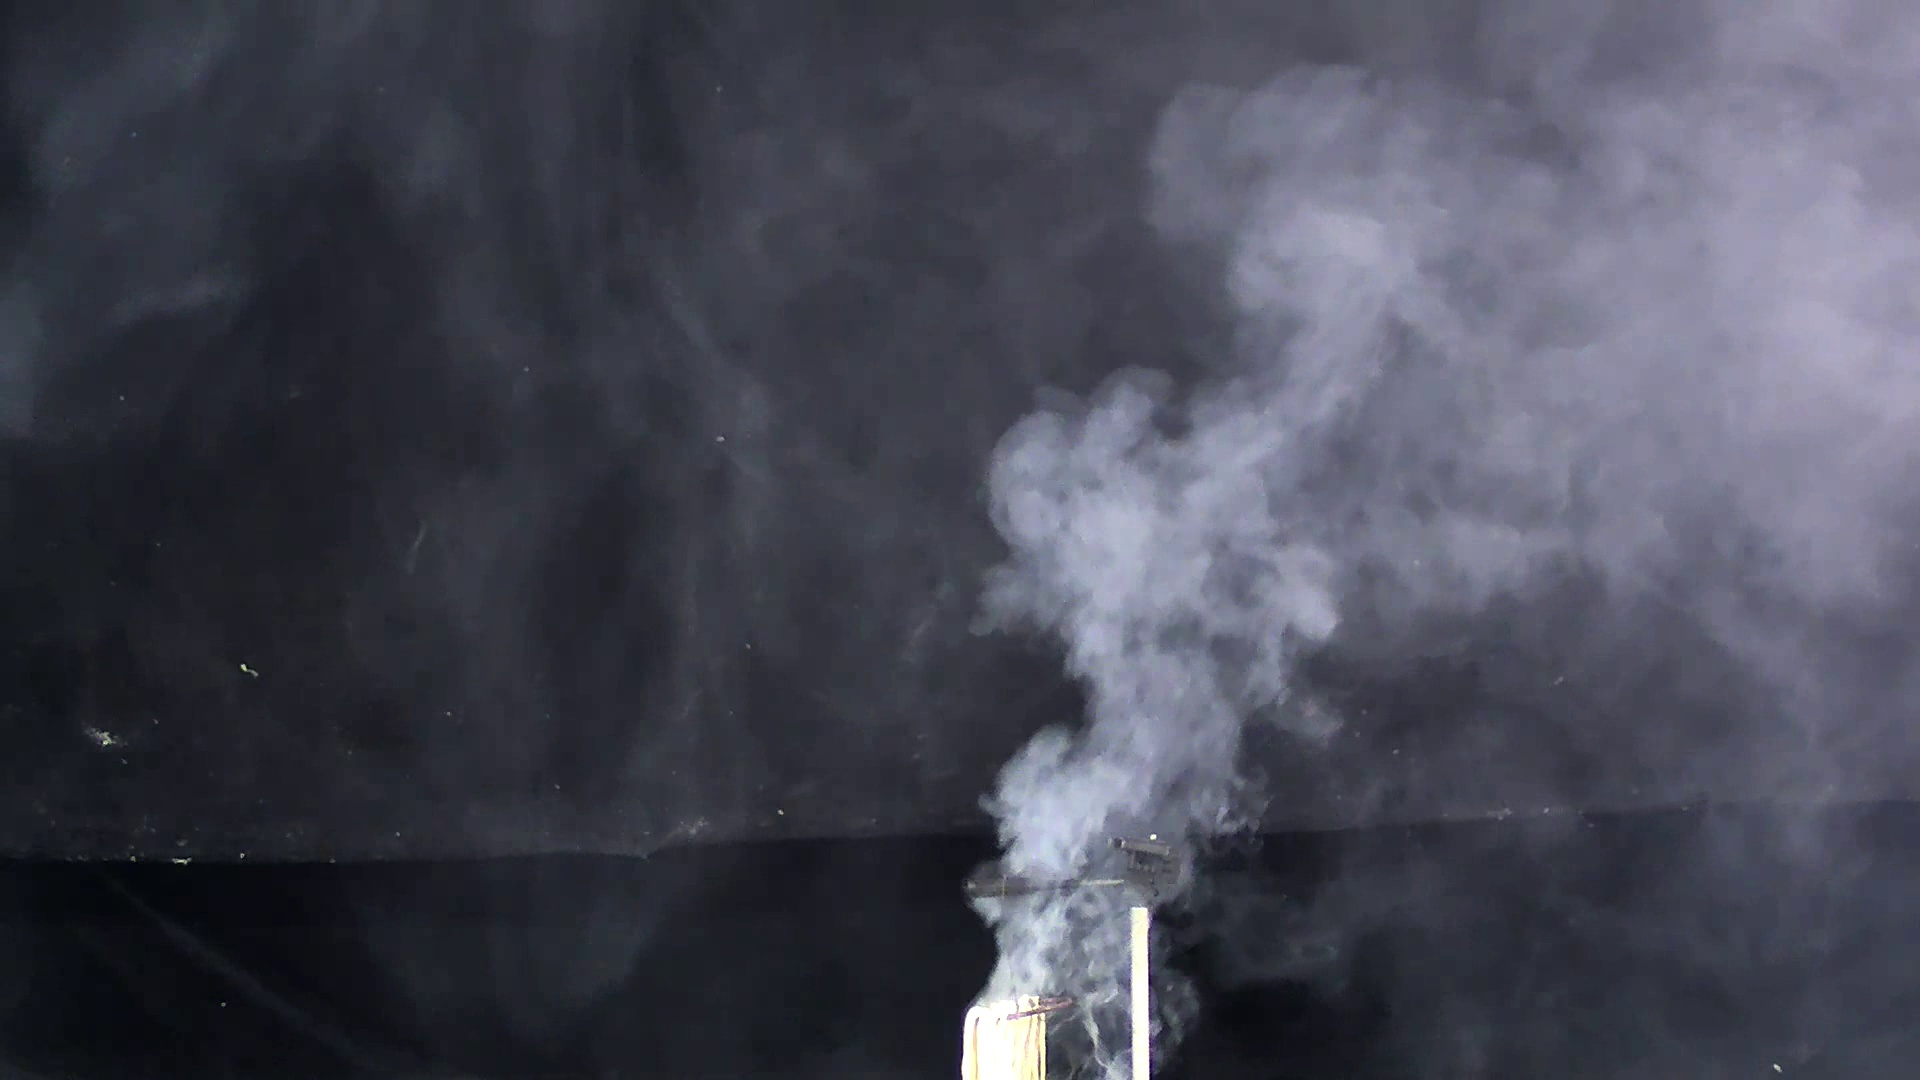smoke: (934, 153, 1573, 1009)
